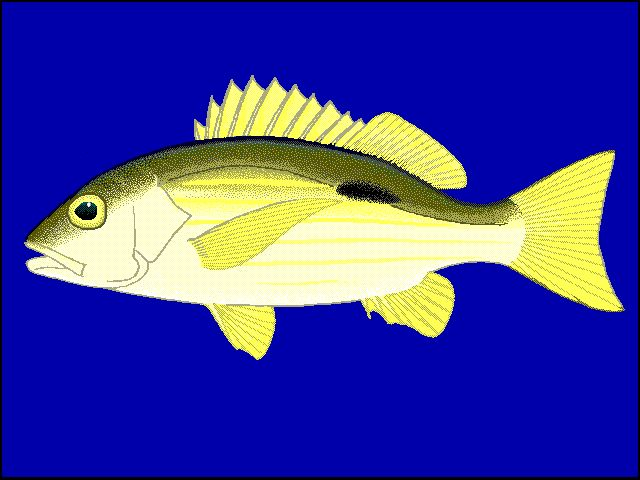fish: (24, 74, 625, 361)
